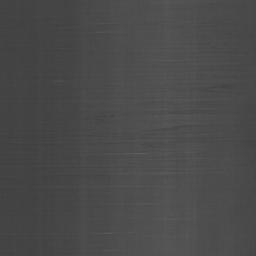Waist folding: (0, 98, 219, 161), (38, 166, 183, 189), (162, 51, 256, 66), (187, 82, 230, 89), (38, 75, 65, 84), (168, 0, 216, 5), (97, 230, 132, 236), (163, 215, 190, 222), (95, 29, 114, 35), (136, 201, 153, 206)
